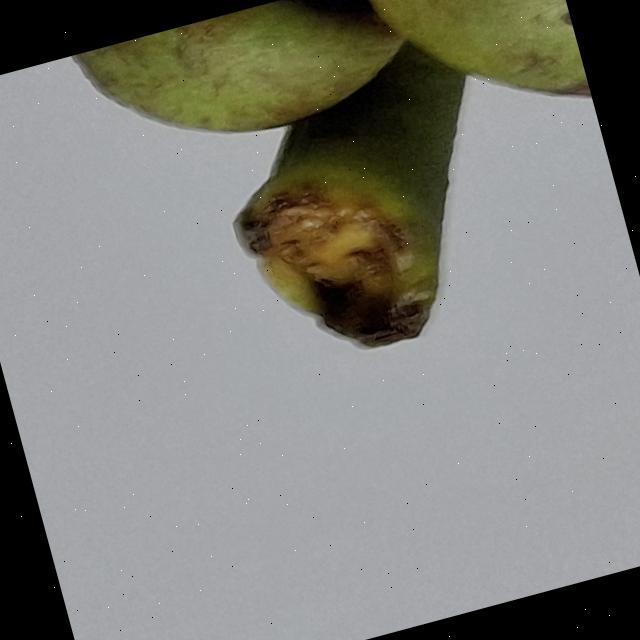mangosteen: (0, 0, 640, 490)
